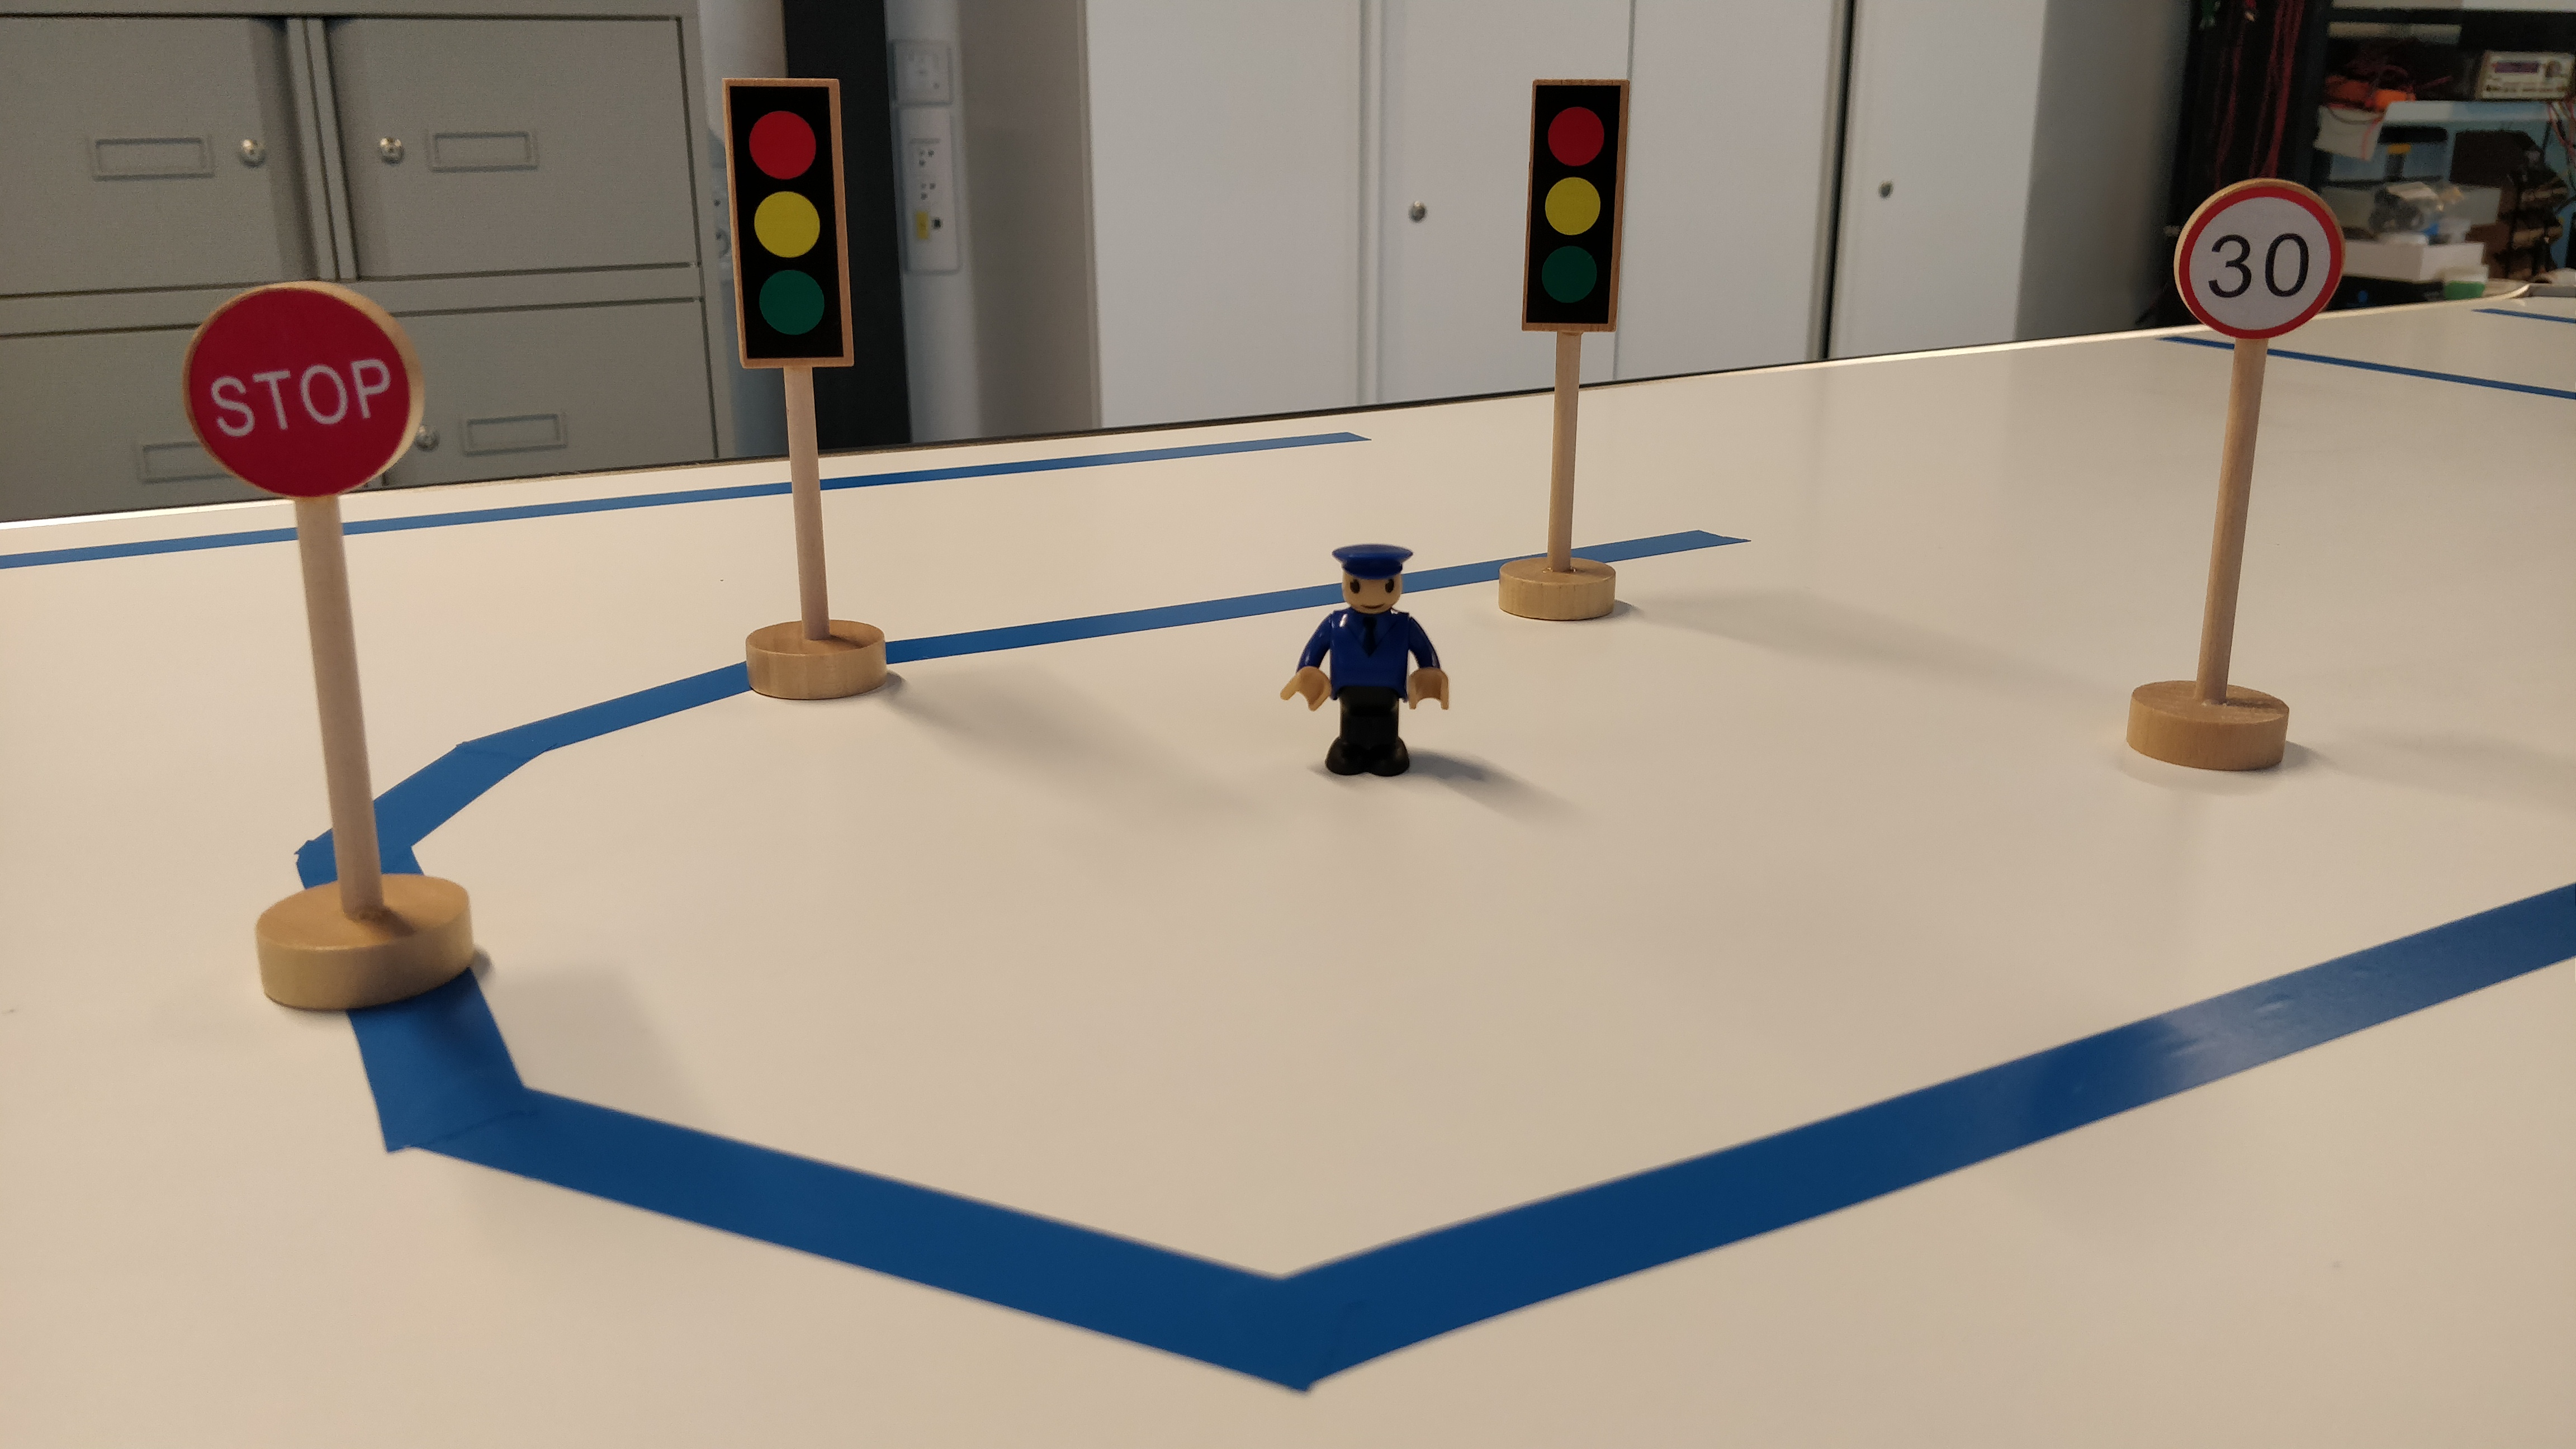Person: (1270, 535, 1458, 785)
Speed Limit 30: (2174, 173, 2348, 343)
Stop Sign: (177, 273, 427, 503)
Traffic Light: (716, 73, 861, 372), (1519, 68, 1637, 337)
